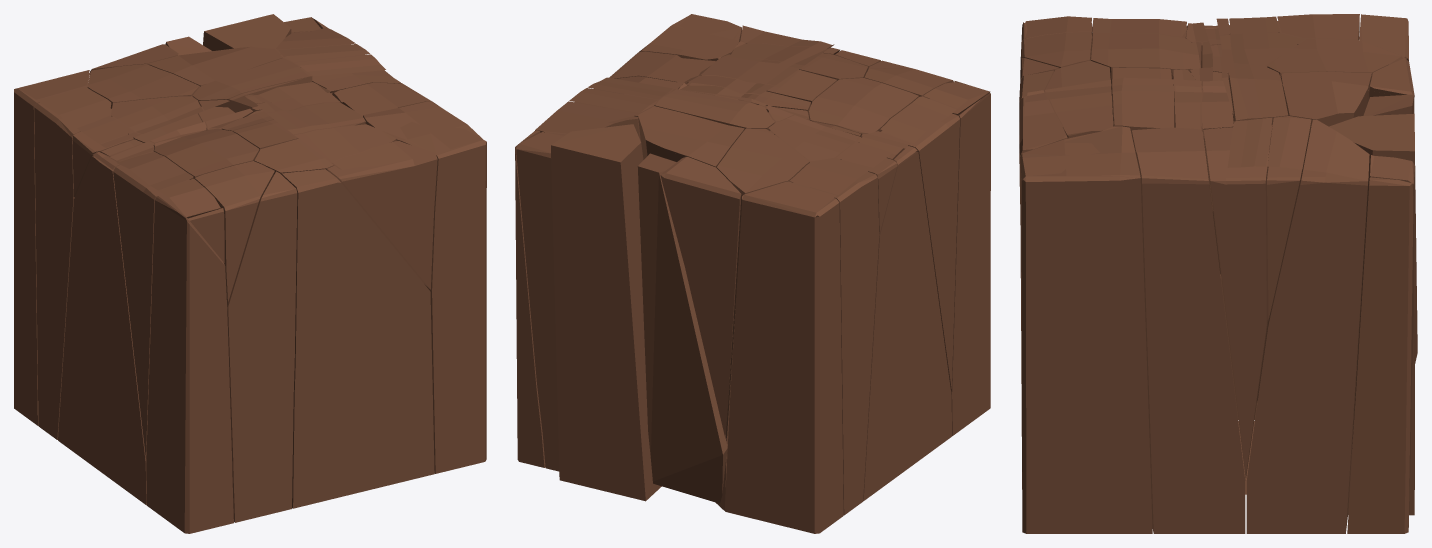
Rendered from CardboardBox_4_Fracture.fbx.
3 renders of one model, left to right at view 1: azimuth 30°, elevation 25°; view 2: azimuth 150°, elevation 25°; view 3: azimuth 270°, elevation 25°, orthographic. The views are drawn at different scales.
Parts seen in each view (by area): view 1: Cube.004_cell.007, Cube.004_cell.021, Cube.004_cell.018, Cube.004_cell.031, Cube.004_cell.010, Cube.004_cell.030, Cube.004_cell, Cube.004_cell.026, Cube.004_cell.008, Cube.004_cell.017, Cube.004_cell.033, Cube.004_cell.013 (+21 smaller); view 2: Cube.004_cell.026, Cube.004_cell.029, Cube.004_cell.031, Cube.004_cell.016, Cube.004_cell.030, Cube.004_cell.021, Cube.004_cell.001, Cube.004_cell.025, Cube.004_cell.008, Cube.004_cell.028, Cube.004_cell.019, Cube.004_cell.005 (+19 smaller); view 3: Cube.004_cell.018, Cube.004_cell.023, Cube.004_cell.024, Cube.004_cell.028, Cube.004_cell.032, Cube.004_cell.009, Cube.004_cell.029, Cube.004_cell.005, Cube.004_cell.033, Cube.004_cell.013, Cube.004_cell.022, Cube.004_cell.019 (+17 smaller).
Part boxes in pixels (box(x1,y1,x2,y2)): Cube.004_cell.007: box(281, 169, 434, 508); Cube.004_cell.021: box(146, 197, 233, 533); Cube.004_cell.018: box(363, 101, 486, 473); Cube.004_cell.031: box(58, 156, 146, 505); Cube.004_cell.010: box(227, 171, 297, 522); Cube.004_cell.030: box(34, 87, 112, 439); Cube.004_cell: box(327, 140, 437, 289); Cube.004_cell.026: box(14, 70, 90, 425); Cube.004_cell.008: box(113, 165, 189, 458); Cube.004_cell.017: box(194, 161, 274, 310); Cube.004_cell.033: box(254, 124, 396, 174); Cube.004_cell.013: box(154, 128, 259, 179); Cube.004_cell.026: box(725, 181, 843, 533); Cube.004_cell.029: box(551, 124, 661, 501); Cube.004_cell.031: box(863, 151, 952, 501); Cube.004_cell.016: box(637, 153, 727, 503); Cube.004_cell.030: box(789, 158, 879, 515); Cube.004_cell.021: box(951, 93, 990, 435); Cube.004_cell.001: box(660, 156, 741, 438); Cube.004_cell.025: box(516, 132, 566, 471); Cube.004_cell.008: box(881, 113, 959, 390); Cube.004_cell.028: box(515, 130, 545, 467); Cube.004_cell.019: box(715, 128, 809, 510); Cube.004_cell.005: box(638, 106, 744, 167); Cube.004_cell.018: box(1020, 126, 1152, 533); Cube.004_cell.023: box(1246, 119, 1369, 533); Cube.004_cell.024: box(1131, 127, 1245, 533); Cube.004_cell.028: box(1347, 177, 1413, 533); Cube.004_cell.032: box(1203, 118, 1272, 480); Cube.004_cell.009: box(1267, 116, 1311, 320); Cube.004_cell.029: box(1329, 113, 1414, 515); Cube.004_cell.005: box(1280, 71, 1371, 142); Cube.004_cell.033: box(1044, 60, 1113, 138); Cube.004_cell.013: box(1091, 33, 1201, 126); Cube.004_cell.022: box(1112, 67, 1174, 135); Cube.004_cell.019: box(1257, 38, 1402, 402).
Bounding box in the file's own units: 58.21 × 63.23 × 59.94.
